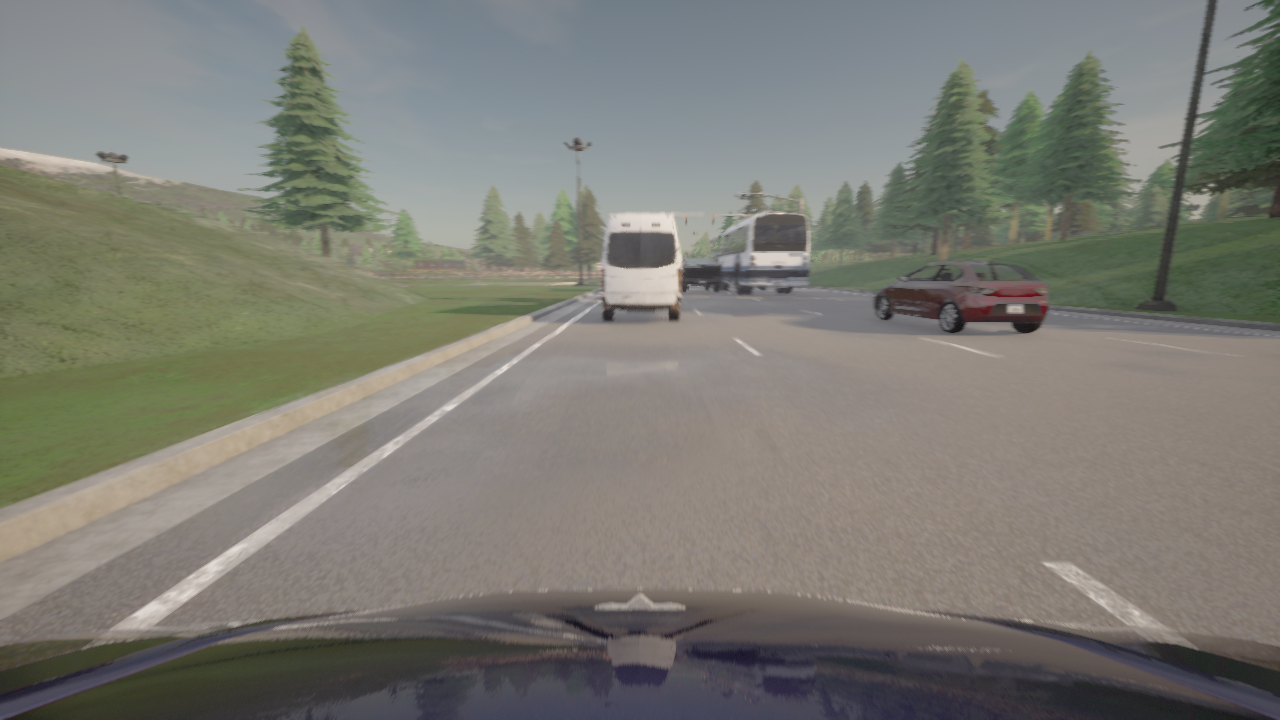cyclist: (0, 588, 1279, 719), (872, 260, 1049, 332), (600, 214, 681, 319), (712, 212, 809, 293), (681, 258, 721, 292)
